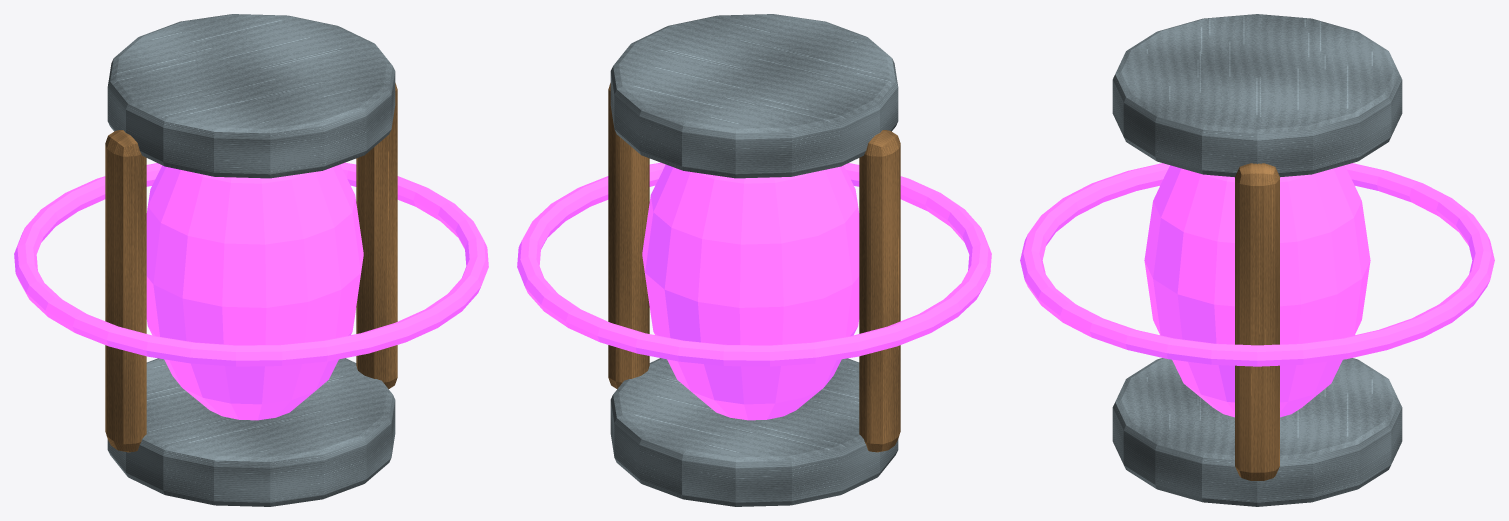
The model's file is memory_core.glb.
3 renders of one model, left to right at view 1: azimuth 30°, elevation 25°; view 2: azimuth 150°, elevation 25°; view 3: azimuth 270°, elevation 25°, orthographic.
Parts seen in each view (by area): view 1: memory_core; view 2: memory_core; view 3: memory_core.
Boxes of the visible parts, <box> form: memory_core: <box>14,14,488,506</box>; memory_core: <box>517,14,991,506</box>; memory_core: <box>1020,14,1494,506</box>.
Size of the model in its own units: 1.05 by 0.92 by 1.05.
Materials: 3 (2 with a texture image).
